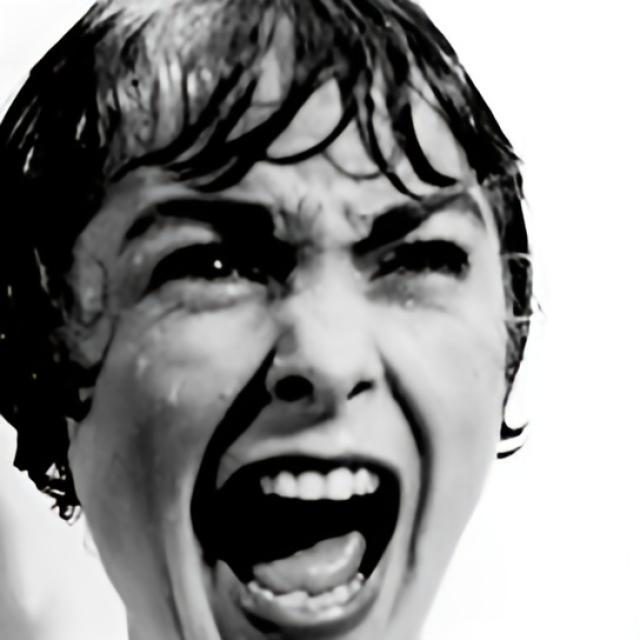fear: (65, 0, 507, 640)
